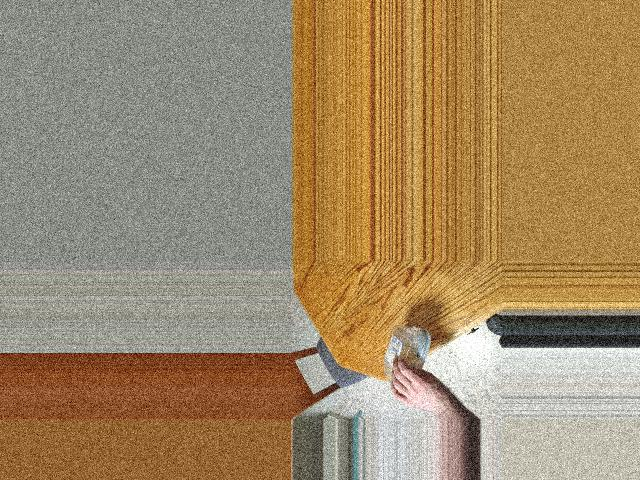cheese: (385, 344, 432, 397)
